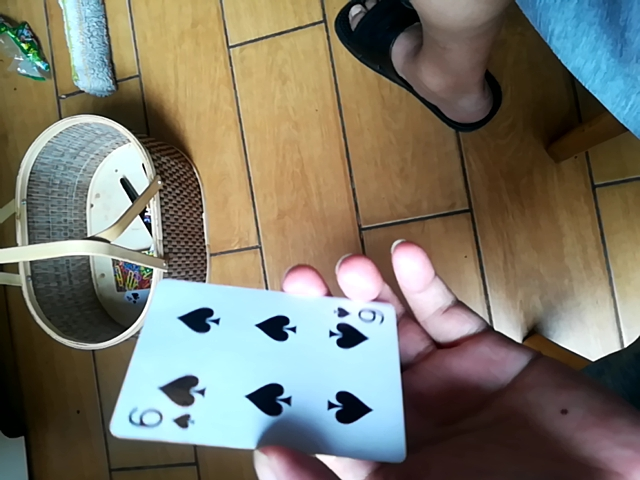ht 6: (110, 276, 404, 465)
